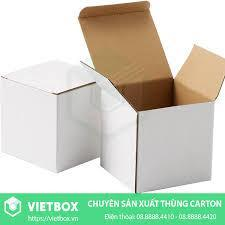box: (78, 1, 224, 194), (1, 58, 105, 173)
